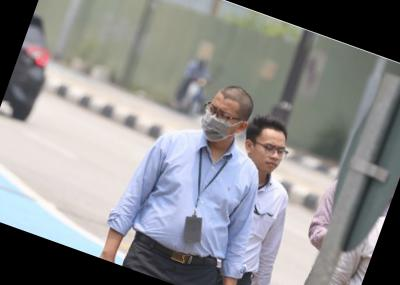with_mask: (196, 102, 242, 149)
without_mask: (247, 135, 288, 177)
